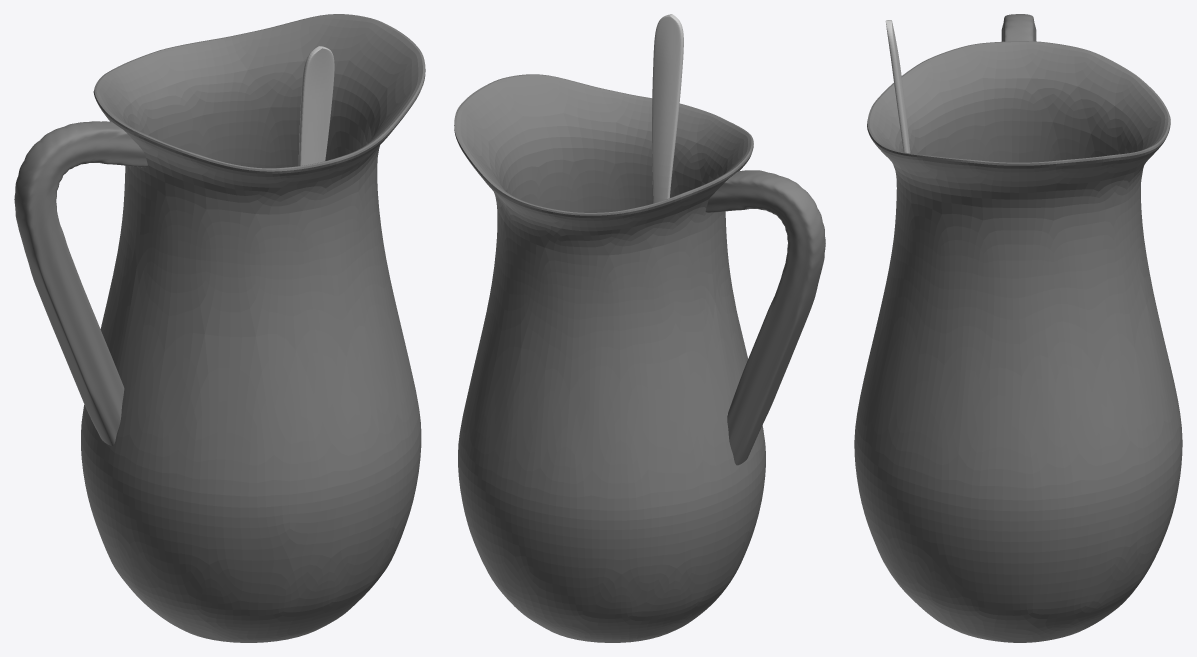
Rendered from mv_JugB.fbx.
3 renders of one model, left to right at view 1: azimuth 30°, elevation 25°; view 2: azimuth 150°, elevation 25°; view 3: azimuth 270°, elevation 25°, orthographic. The views are drawn at different scales.
Parts seen in each view (by area): view 1: JugB_LOD0; view 2: JugB_LOD0; view 3: JugB_LOD0.
Part boxes in pixels (x1,y1,x2,y2): JugB_LOD0: (14, 14, 425, 642); JugB_LOD0: (454, 14, 825, 642); JugB_LOD0: (854, 14, 1182, 642).
Size of what is drawn, in the model's own units: 23.57 by 35.49 by 18.01.
